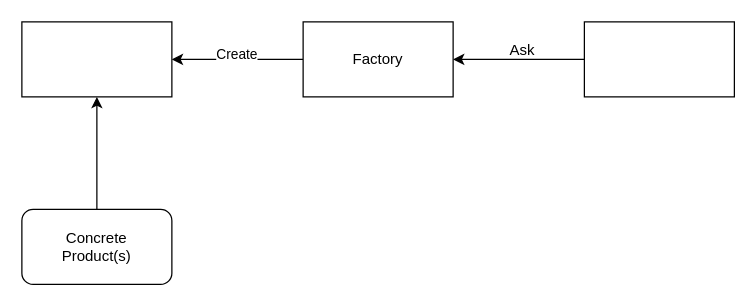
This 756x306 diagram has some shape labels left out. The centre of each missing label's shape, as x and y in pixels:
"<<Interface>> Product" belongs at [96,59].
"Factory Demo" belongs at [658,59].
